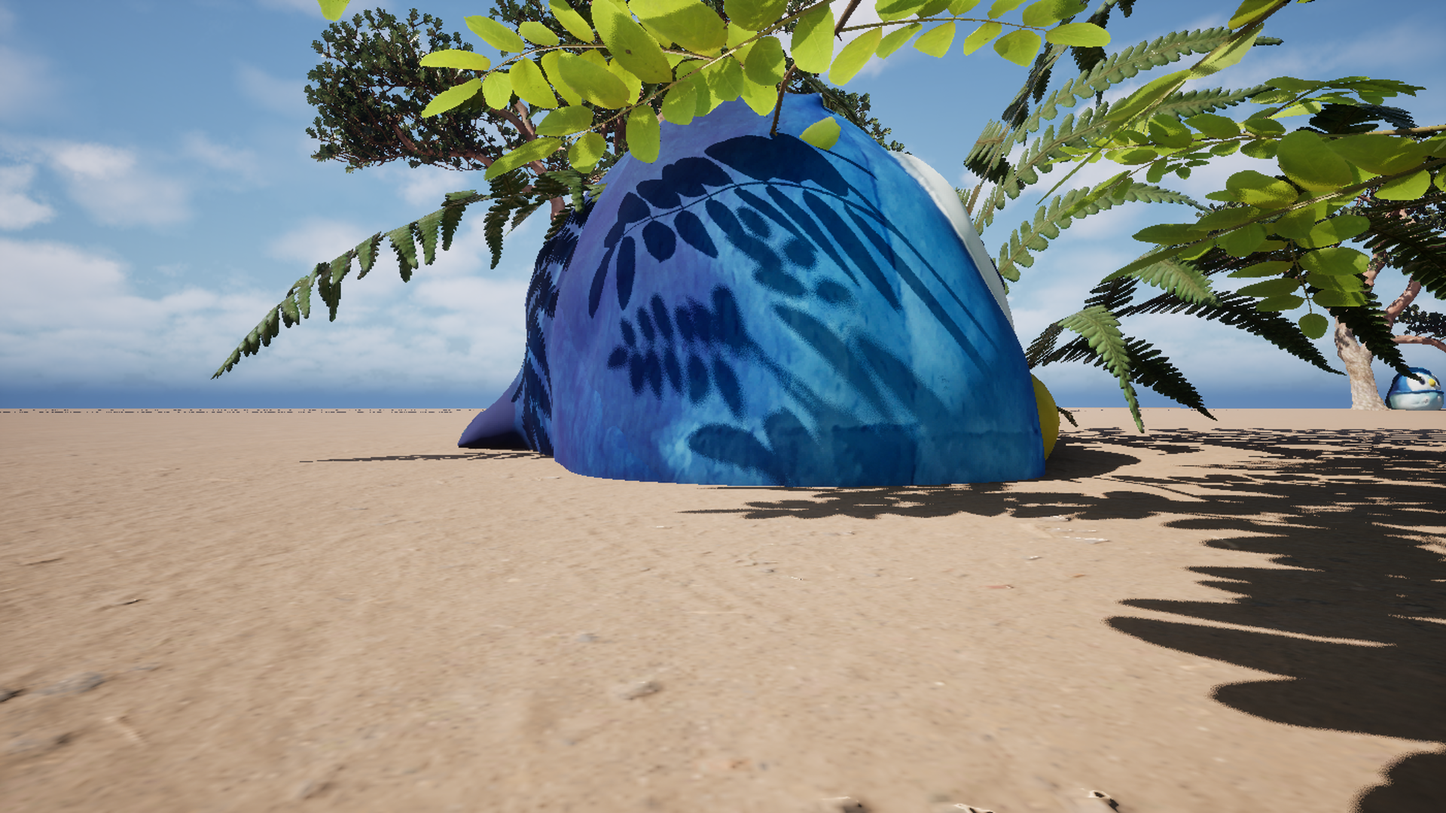Piplup: (236, 0, 1249, 813)
